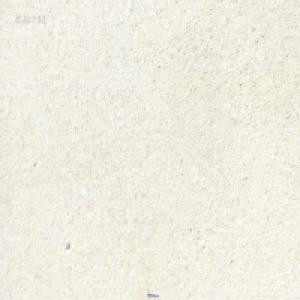Nail: (146, 288, 158, 297)
